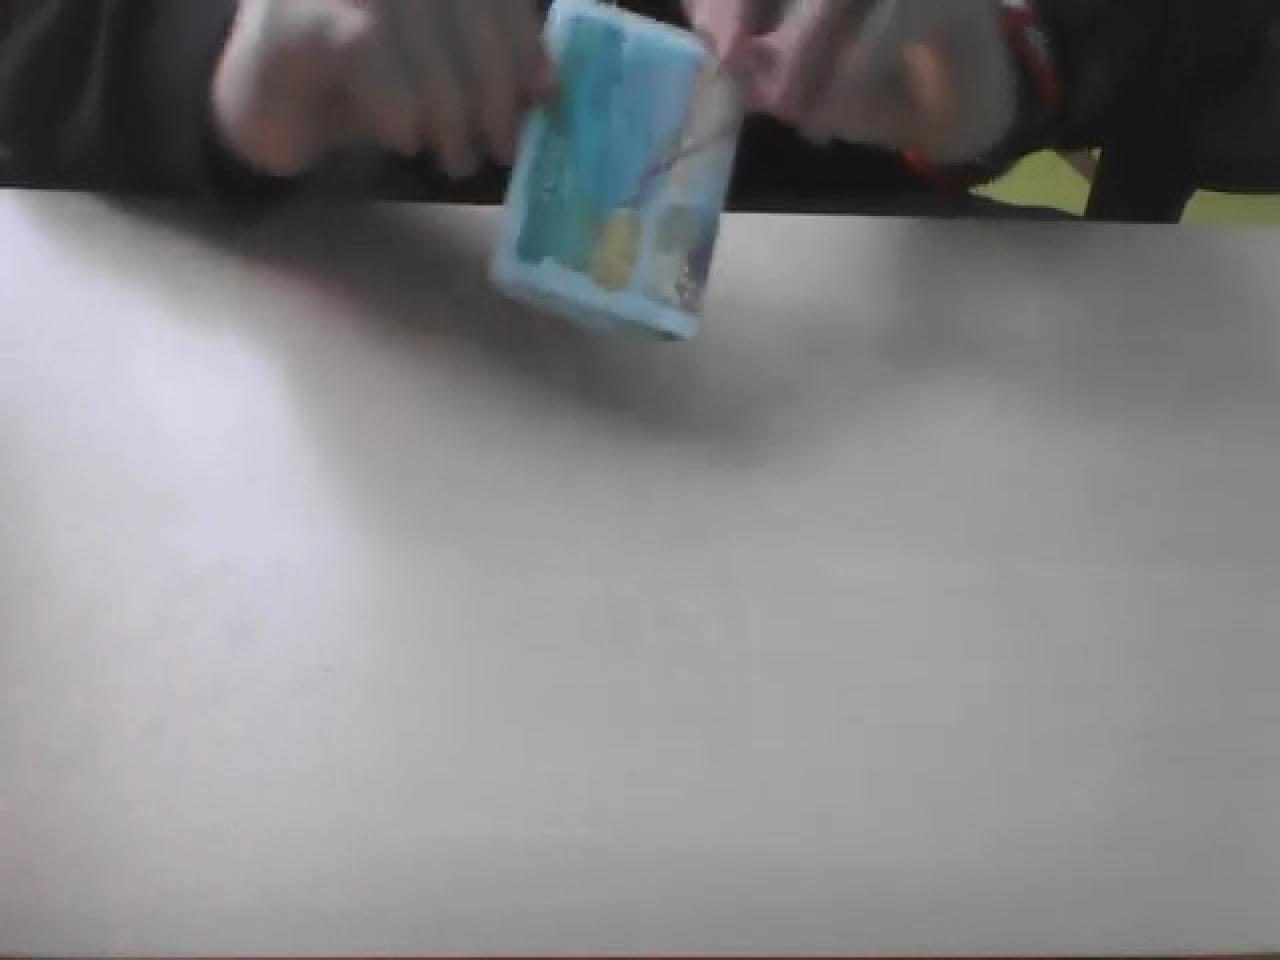100leva: (498, 0, 738, 341)
